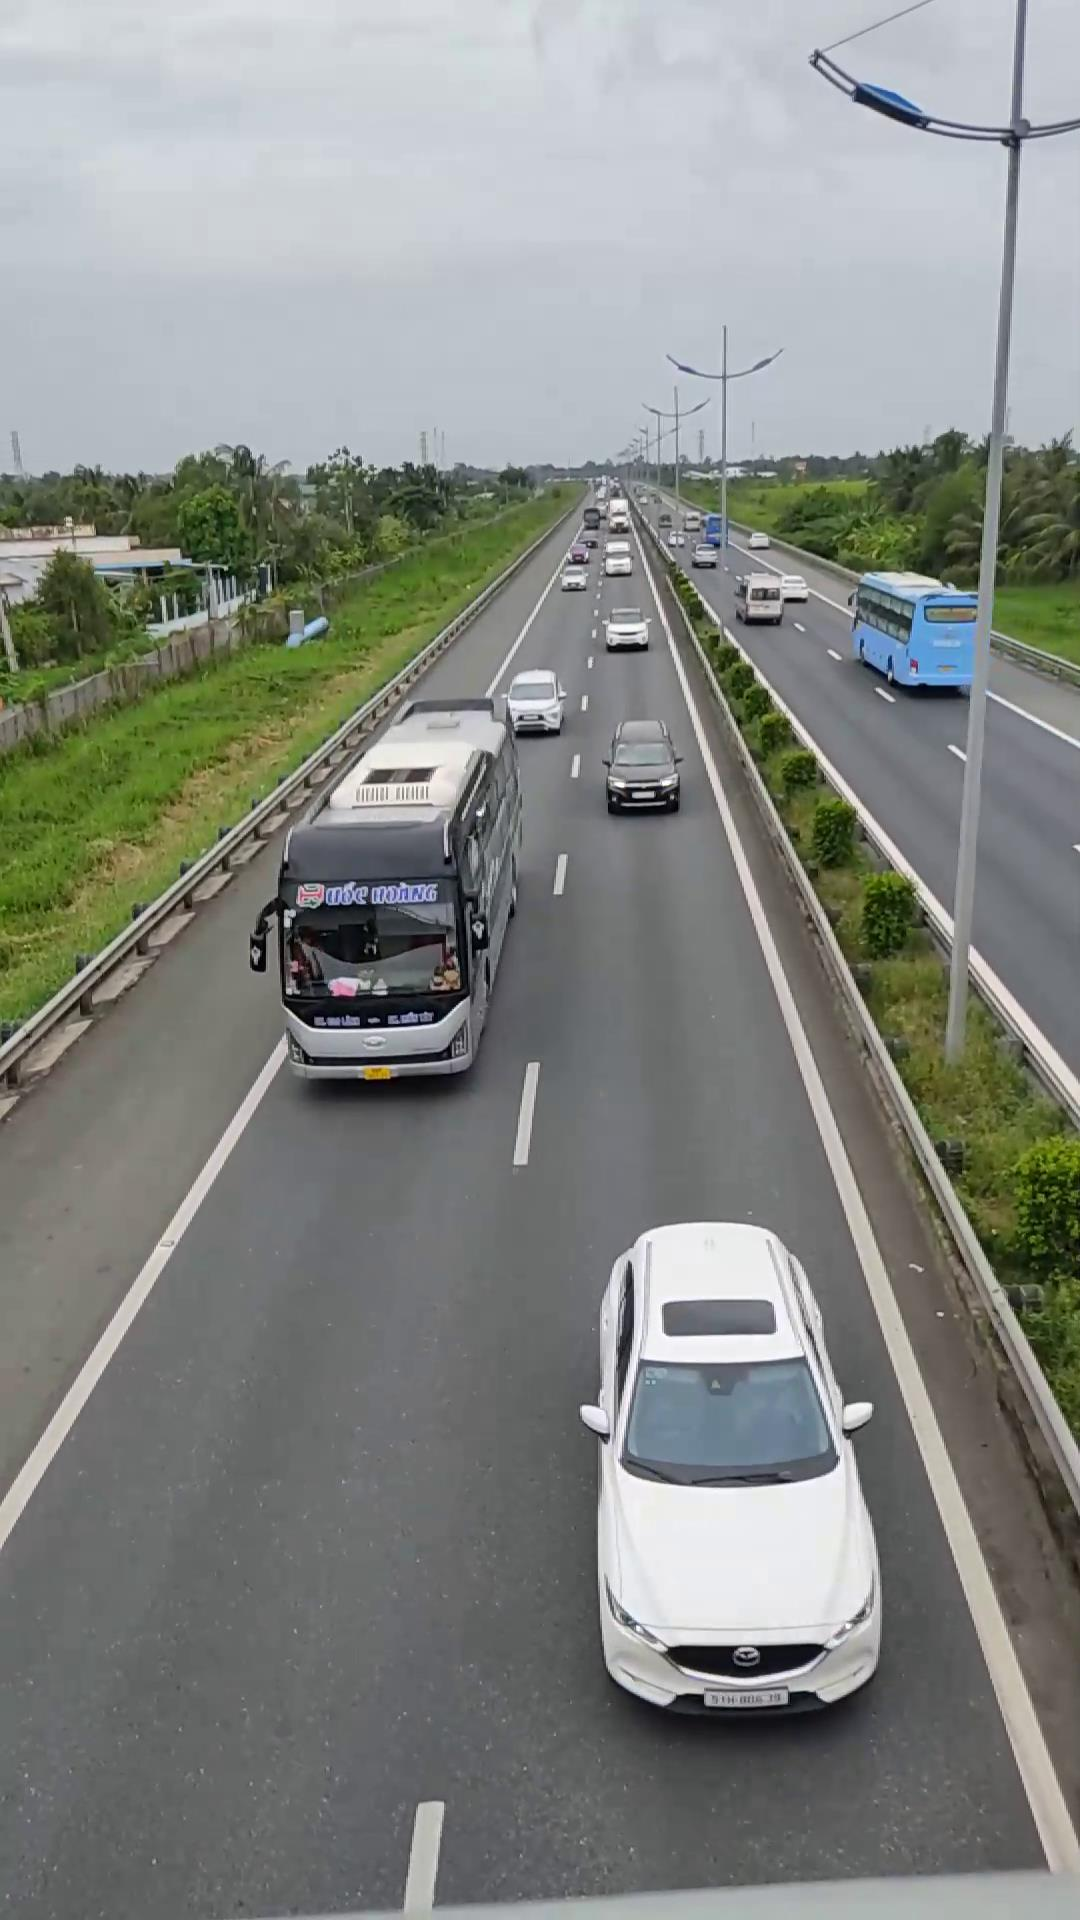bus: (256, 700, 524, 1083)
car: (579, 1215, 887, 1718), (601, 717, 683, 814), (492, 669, 571, 735)
